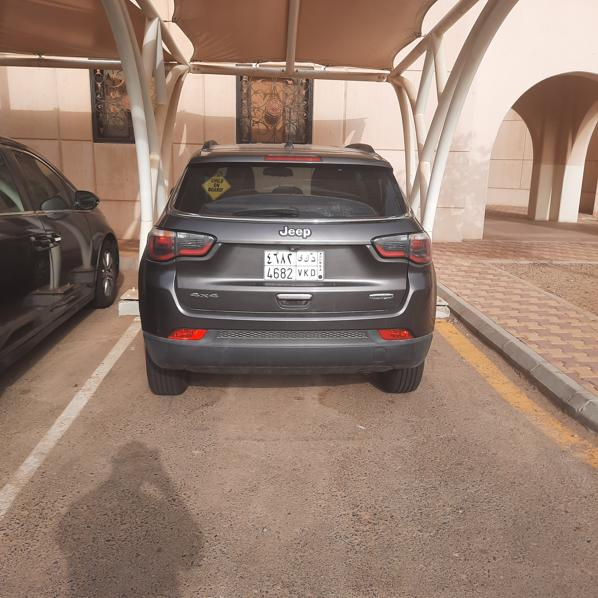numberplate: (264, 250, 324, 282)
